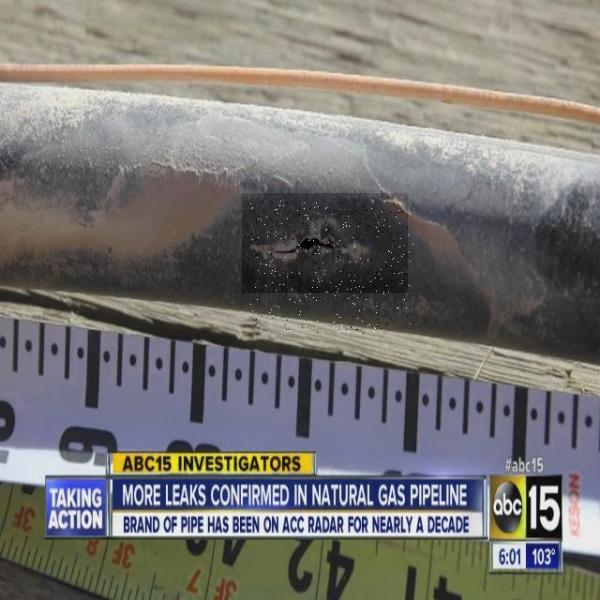crack: (242, 193, 408, 293)
